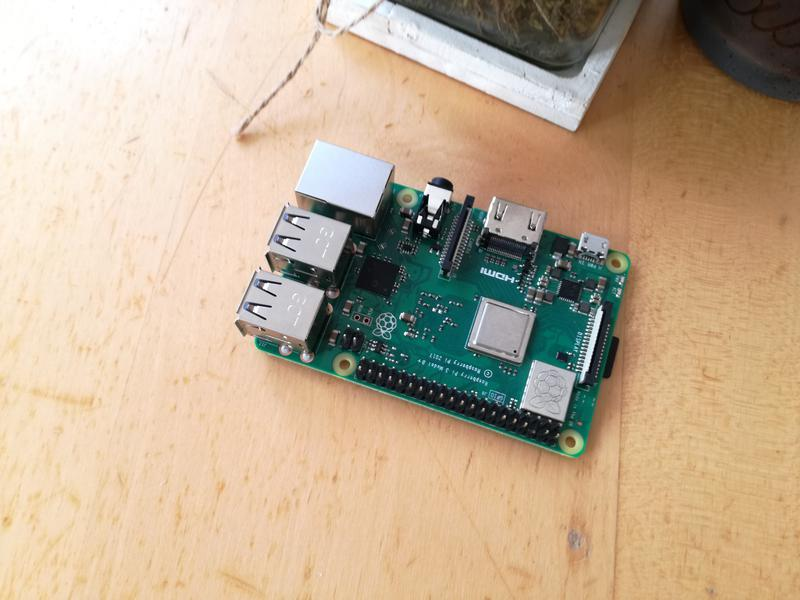Raspberry_Pi_3: (233, 137, 640, 472)
